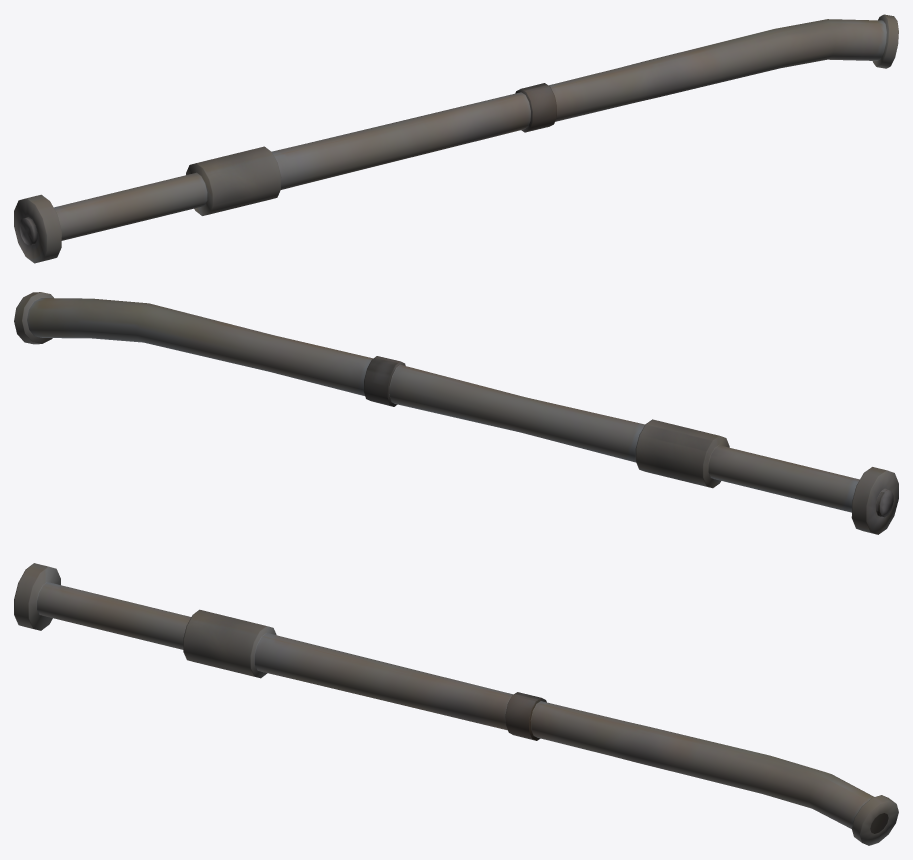
Rendered from Pipe.fbx.
3 renders of one model, top to bottom at view 1: azimuth 30°, elevation 25°; view 2: azimuth 150°, elevation 25°; view 3: azimuth 330°, elevation 25°, orthographic.
Visible parts, largest first — view 1: Pipe_Parcy; view 2: Pipe_Parcy; view 3: Pipe_Parcy.
Boxes of the visible parts, box(x1,y1,x2,y2) form: Pipe_Parcy: box(14, 14, 898, 263); Pipe_Parcy: box(14, 292, 898, 534); Pipe_Parcy: box(14, 563, 898, 845).
Size of the model in its own units: 1679 by 138 by 109.
